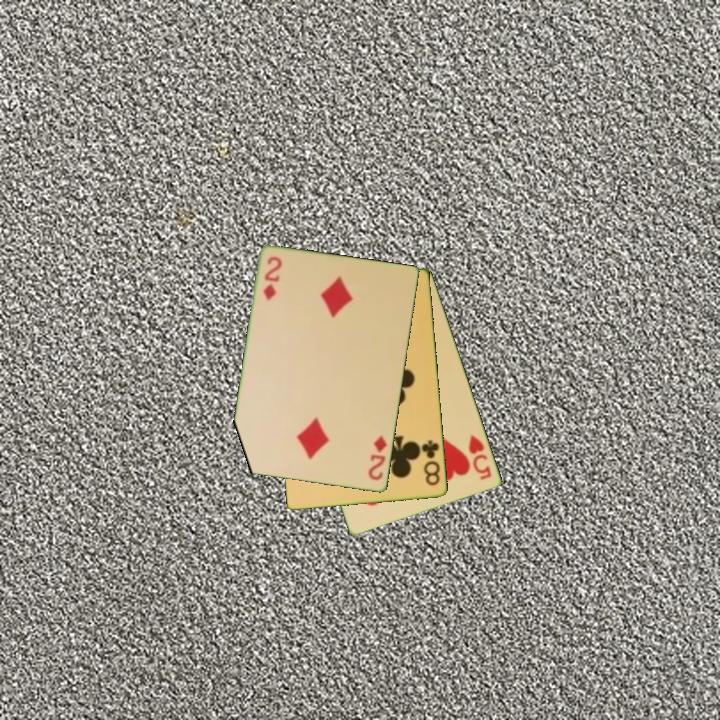2d: (365, 432, 390, 483), (260, 253, 284, 303)
5h: (465, 431, 495, 483)
8c: (418, 437, 443, 489)
